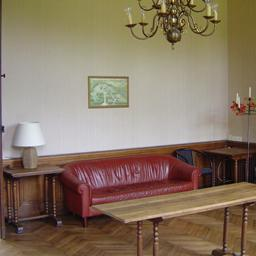Otro Obstaculo: (230, 84, 255, 186)
